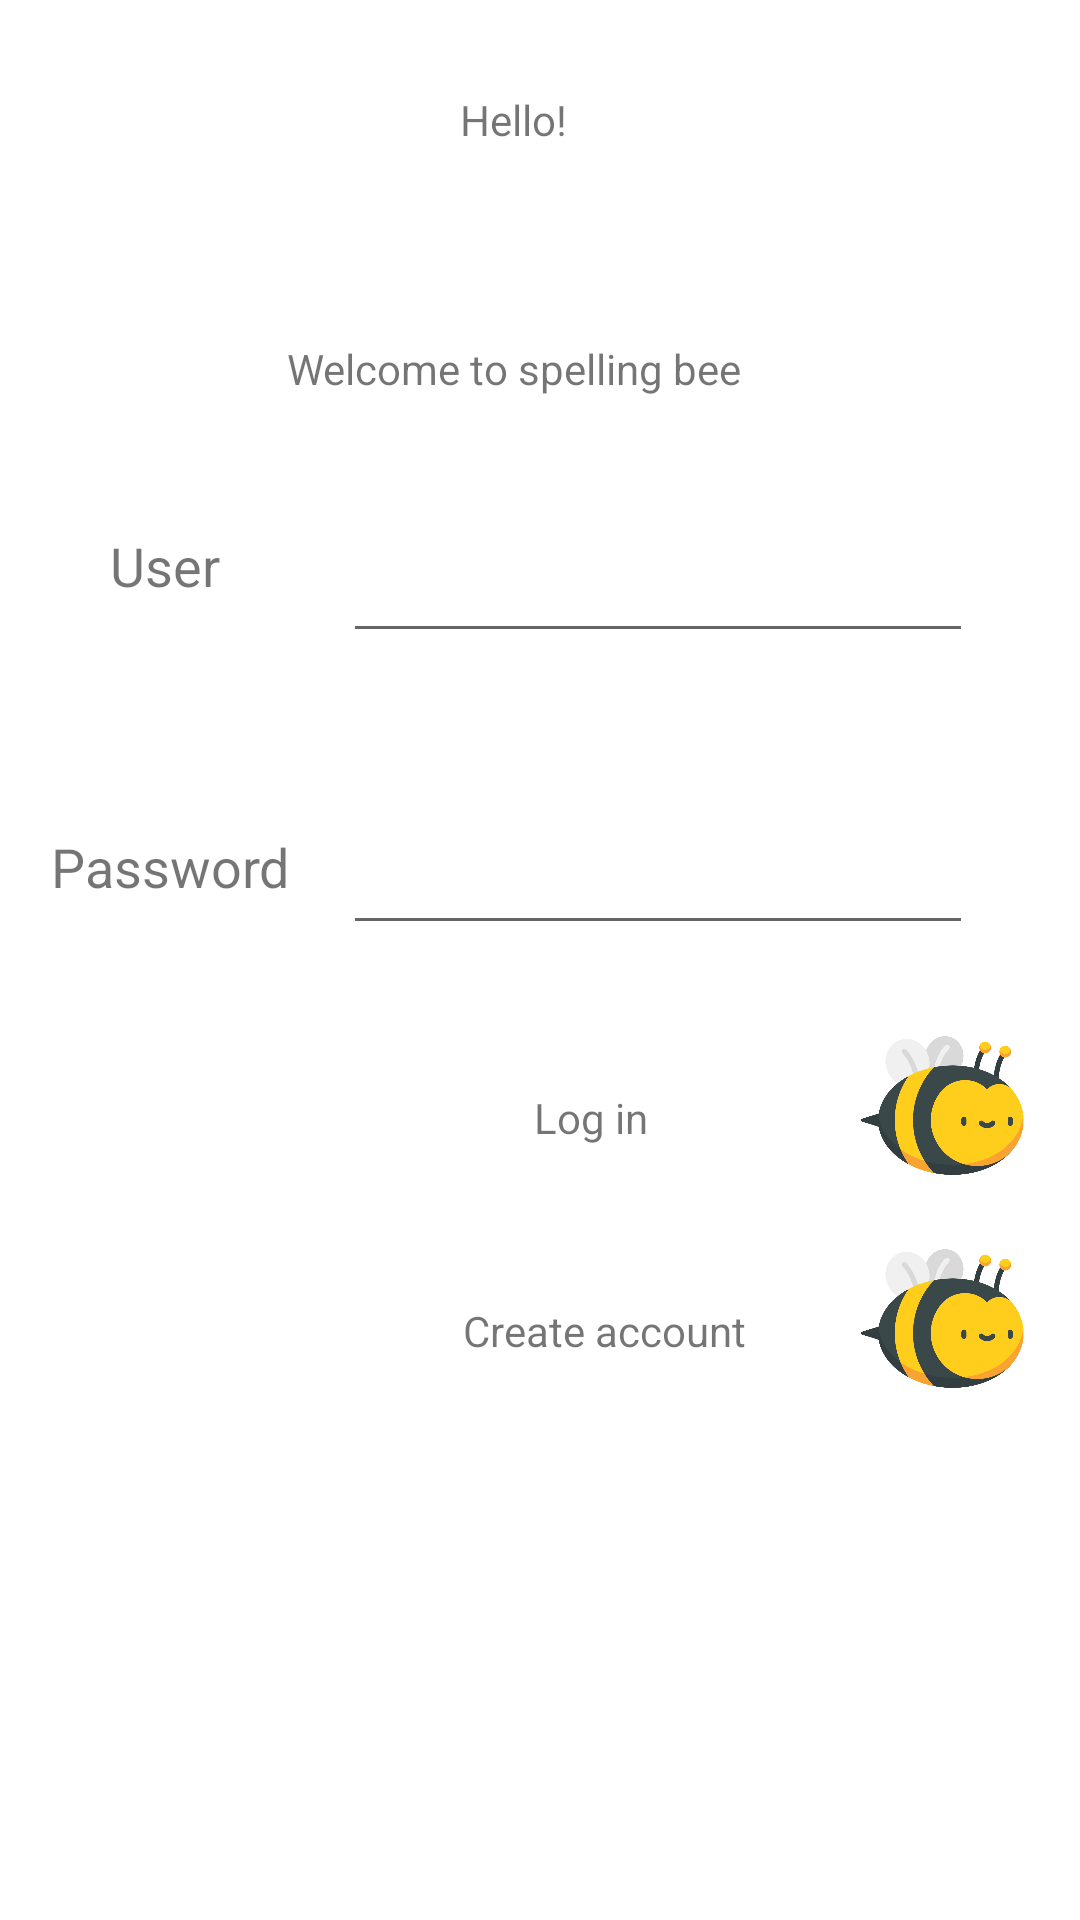

Icon click points for this 1080×1920 phone screenshot, format (x,y):
beee: (942,1105), (942,1318)
